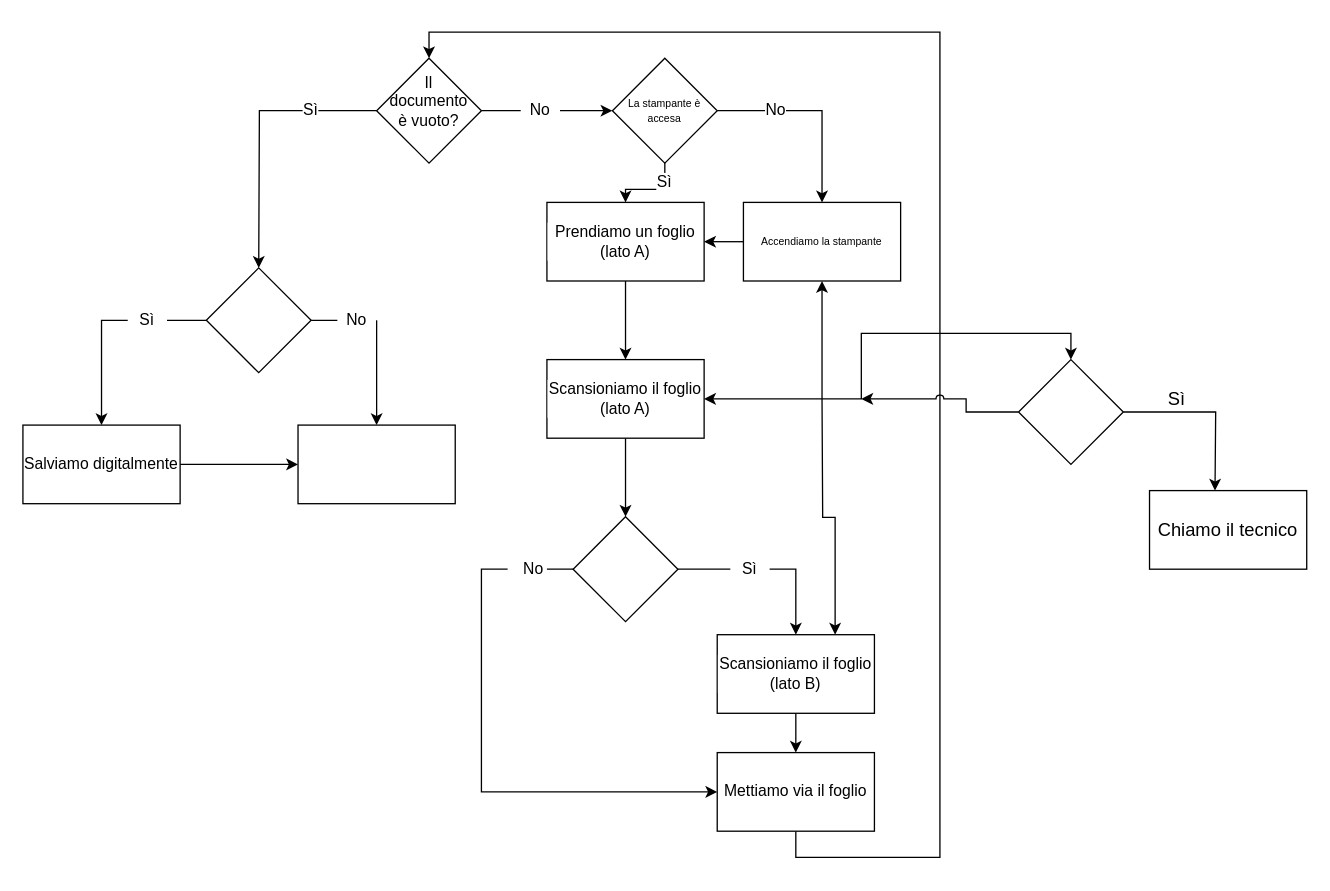
This 1330x891 diagram has some shape labels left out. The centre of each missing label's shape, as x and y in pixels:
"Abbiamo finito" belongs at point 376,464.
"Abbiamo scansionato almeno un foglio?" belongs at point 258,320.
"Ha un lato B?" belongs at point 625,568.
"Si inceppa la stampante?" belongs at point 1070,411.
